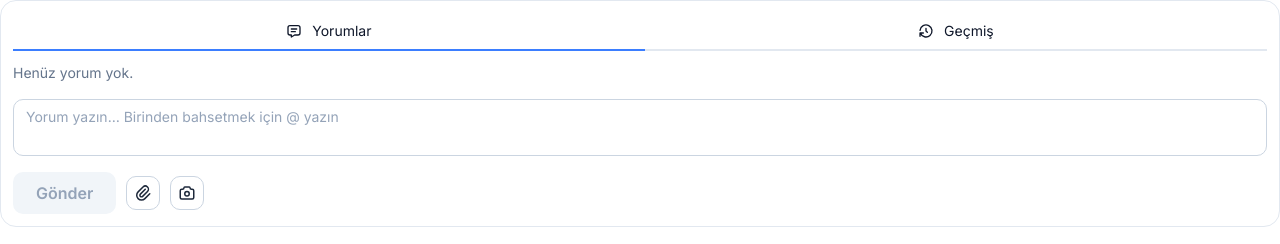
Test: kayıt yorum paneli › geçmiş sekmesinde denetim kayıtlarını gösterir
The width and height of the screenshot is (1280, 244).
Click the tab "Geçmiş".
click(956, 32)  # box [645,13,1267,51]
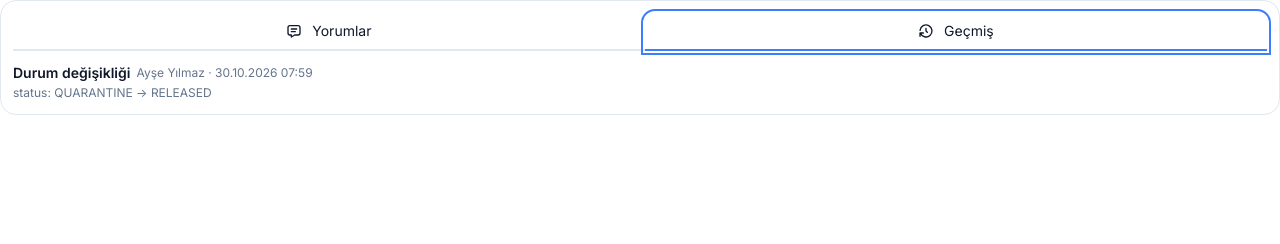
Expected: the text "Durum değişikliği" is shown, [13,63,130,83]
Expected: the text "status: QUARANTINE → RELEASED" is shown, [13,85,212,100]
